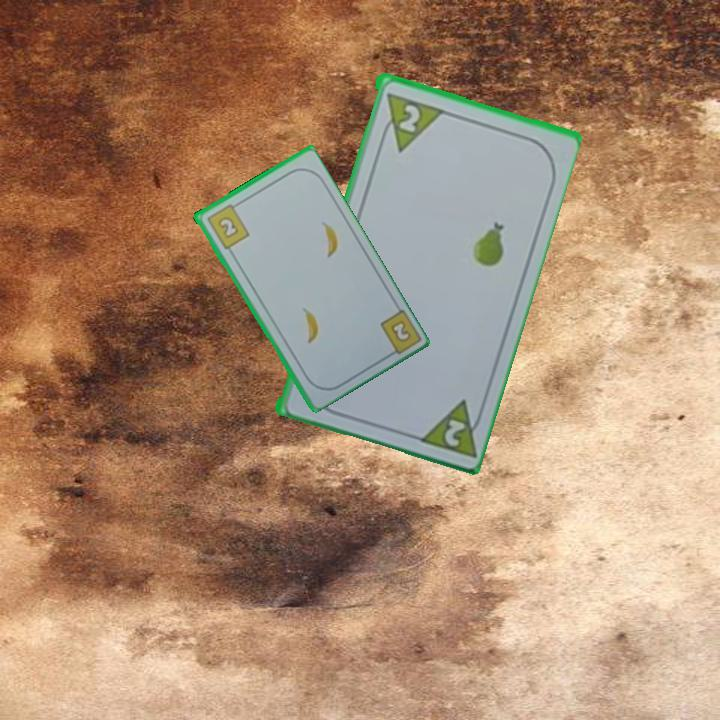2b: (203, 199, 252, 252), (386, 316, 414, 345)
2p: (412, 394, 487, 460), (393, 100, 423, 135)
